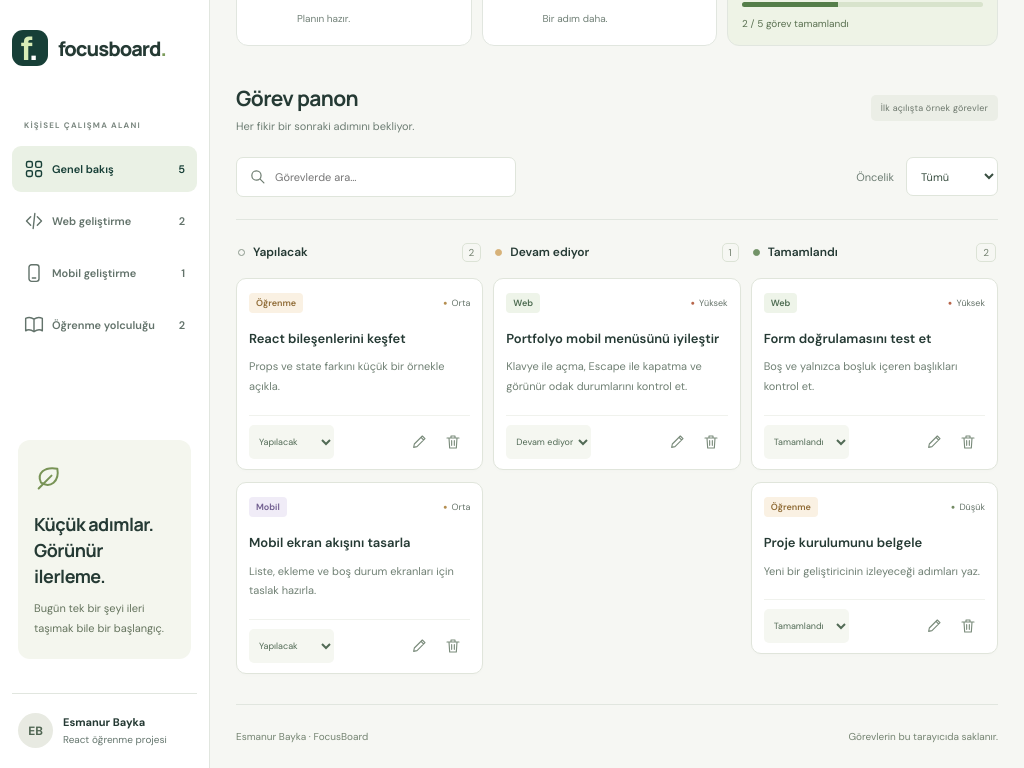
task board user journeys › edits a task without creating a duplicate
(page scrolled)
Click the button named "React bileşenlerini keşfet görevini düzenle": click(419, 442) 402,425 -> 436,459
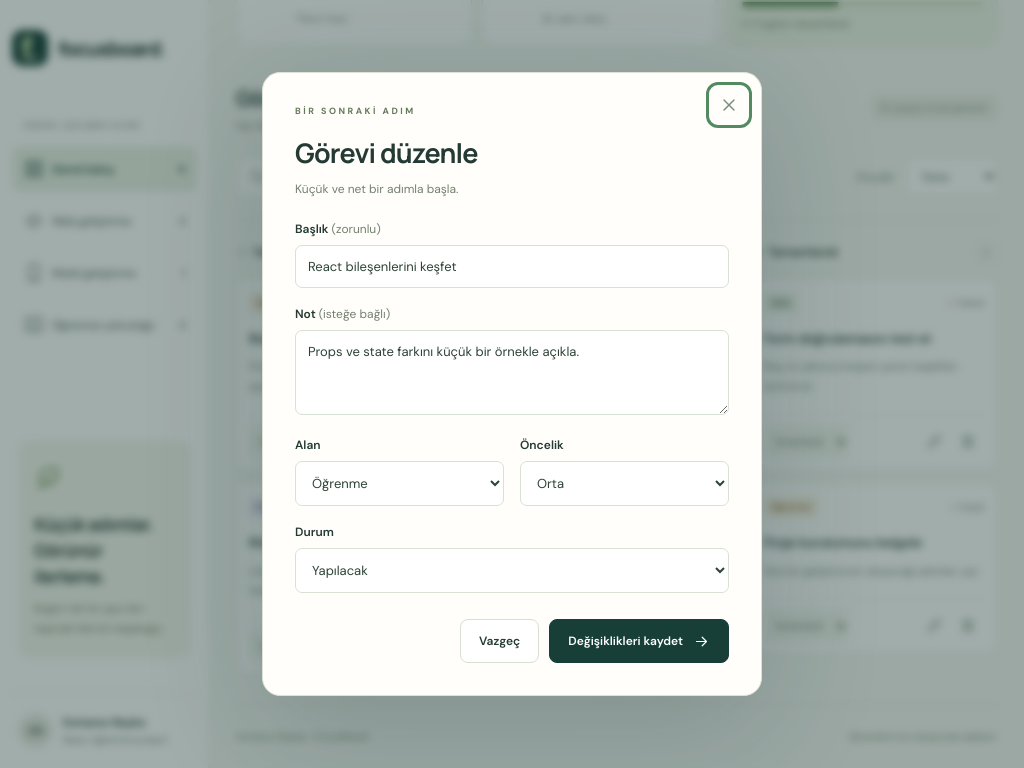
Replace the text in the field labelled "Başlık (zorunlu)" with "Props ve state çalış": (512, 266) 295,245 -> 729,288
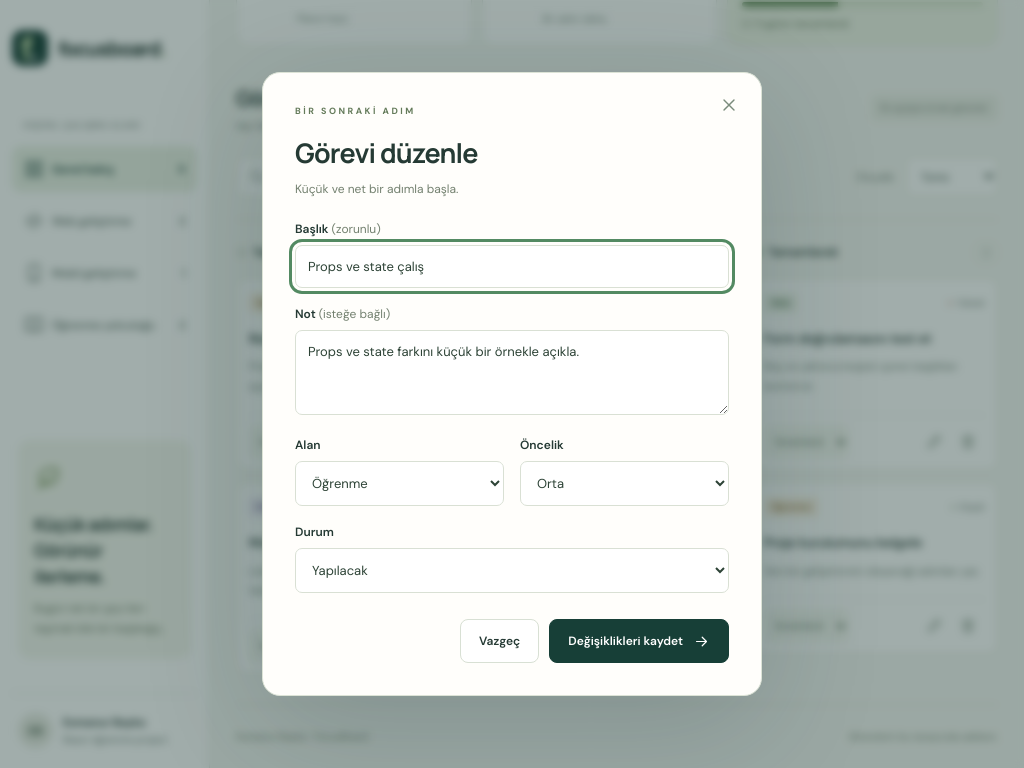
Click the button "Değişiklikleri kaydet": click(639, 641) 549,619 -> 729,663
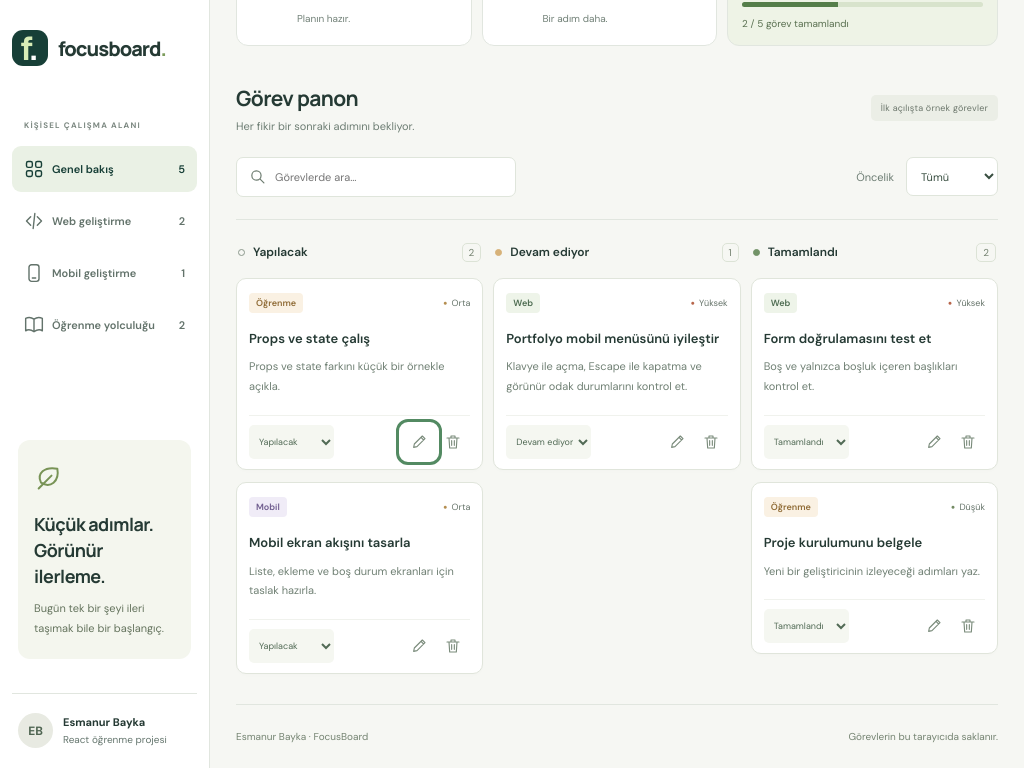
Expected: the heading "Props ve state çalış" is shown, 249,330 -> 370,346
